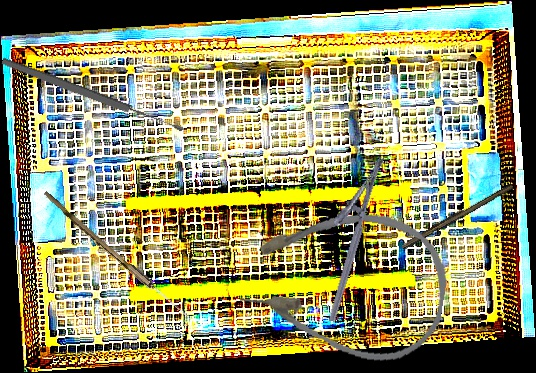Cannula: (233, 195, 456, 370)
Needle Holder: (305, 149, 386, 323)
Scalpel Handle: (399, 180, 515, 252)
Surgical Spoon: (40, 191, 195, 322), (0, 55, 185, 136)
